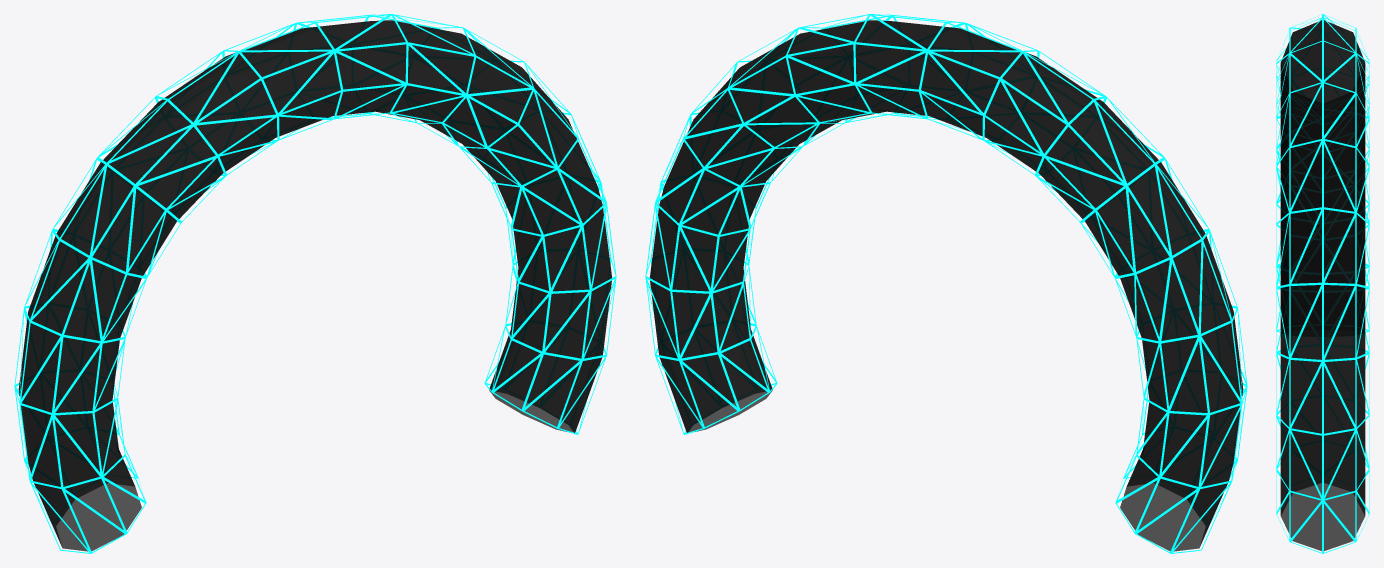
File: TU_Gate_Finish.fbx
3 renders of one model, left to right at view 1: azimuth 30°, elevation 25°; view 2: azimuth 150°, elevation 25°; view 3: azimuth 270°, elevation 25°, orthographic. The views are drawn at different scales.
Parts seen in each view (by area): view 1: interior.005, wireframe.005; view 2: interior.005, wireframe.005; view 3: interior.005, wireframe.005.
Part boxes in pixels (left/top/right/bottom): interior.005: left=18, top=20, right=612, bottom=551; wireframe.005: left=14, top=14, right=616, bottom=553; interior.005: left=649, top=20, right=1243, bottom=551; wireframe.005: left=645, top=14, right=1247, bottom=553; interior.005: left=1280, top=20, right=1365, bottom=550; wireframe.005: left=1276, top=14, right=1369, bottom=553.
Bounding box in the file's own units: 1803 × 1358 × 284.
